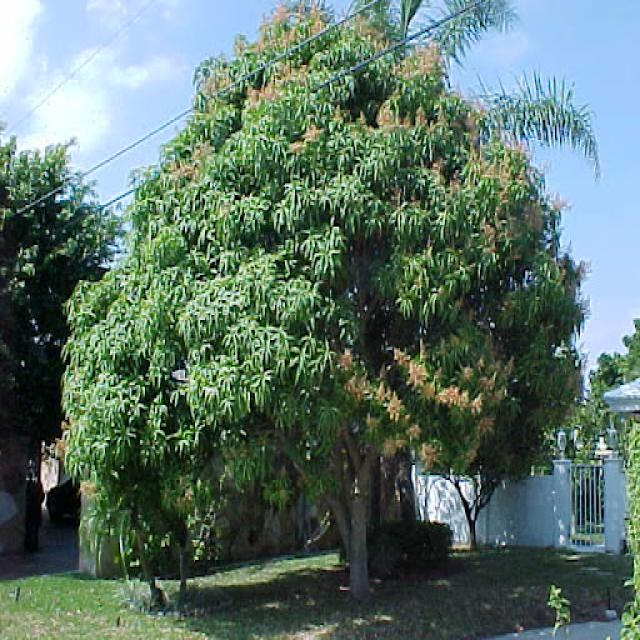Mango-Tree: (52, 7, 611, 562)
